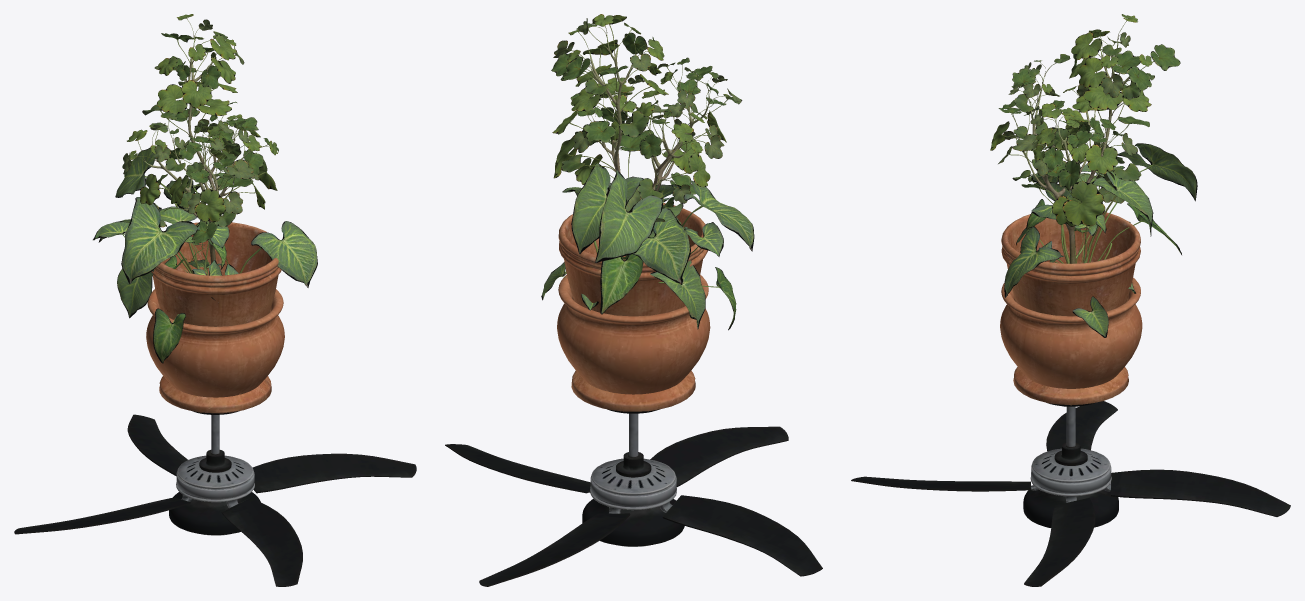
Rendered from room-props.glb.
3 renders of one model, left to right at view 1: azimuth 30°, elevation 25°; view 2: azimuth 150°, elevation 25°; view 3: azimuth 270°, elevation 25°, orthographic. The views are drawn at different scales.
Visible parts, largest first — view 1: potted_plant_01_leaves, potted_plant_02_leaves, ceiling_fan_blades, potted_plant_01_pot, potted_plant_02_pot, ceiling_fan, potted_plant_01_stem; view 2: potted_plant_01_leaves, potted_plant_02_leaves, ceiling_fan_blades, potted_plant_02_pot, potted_plant_01_pot, ceiling_fan, potted_plant_01_stem; view 3: potted_plant_01_leaves, ceiling_fan_blades, potted_plant_01_pot, potted_plant_02_pot, potted_plant_02_leaves, ceiling_fan, potted_plant_01_stem.
Part boxes in pixels (x1=…): potted_plant_01_leaves: x1=122, y1=14, x2=278, y2=243; potted_plant_02_leaves: x1=93, y1=147, x2=317, y2=363; ceiling_fan_blades: x1=14, y1=414, x2=416, y2=586; potted_plant_01_pot: x1=151, y1=222, x2=281, y2=413; potted_plant_02_pot: x1=146, y1=289, x2=284, y2=397; ceiling_fan: x1=169, y1=411, x2=260, y2=535; potted_plant_01_stem: x1=145, y1=37, x2=251, y2=262; potted_plant_01_leaves: x1=551, y1=14, x2=742, y2=230; potted_plant_02_leaves: x1=541, y1=163, x2=754, y2=330; ceiling_fan_blades: x1=445, y1=426, x2=822, y2=586; potted_plant_02_pot: x1=557, y1=275, x2=710, y2=394; potted_plant_01_pot: x1=558, y1=203, x2=707, y2=411; ceiling_fan: x1=582, y1=409, x2=684, y2=546; potted_plant_01_stem: x1=589, y1=34, x2=709, y2=190; potted_plant_01_leaves: x1=990, y1=14, x2=1180, y2=226; ceiling_fan_blades: x1=851, y1=401, x2=1290, y2=586; potted_plant_01_pot: x1=1001, y1=212, x2=1140, y2=405; potted_plant_02_pot: x1=1000, y1=277, x2=1142, y2=388; potted_plant_02_leaves: x1=1004, y1=143, x2=1197, y2=337; ceiling_fan: x1=1023, y1=402, x2=1118, y2=527; potted_plant_01_stem: x1=1018, y1=37, x2=1136, y2=263.
Size of the model in its own units: 1.46 by 1.85 by 1.46.
Materials: 5 (5 with a texture image).
